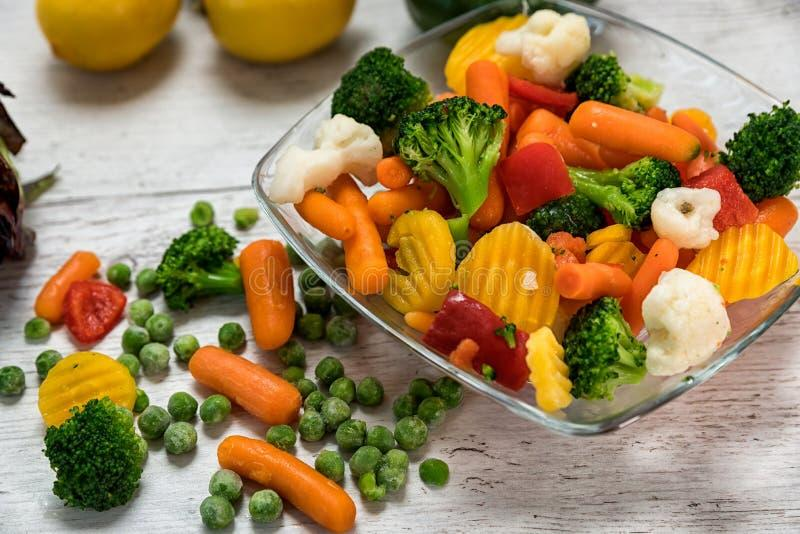broccoli: (393, 96, 508, 219), (528, 155, 684, 238), (43, 399, 150, 514), (565, 297, 651, 402), (719, 106, 800, 205), (570, 52, 666, 114)
carrot: (216, 435, 355, 532), (192, 343, 307, 424), (568, 101, 701, 165), (241, 240, 297, 351), (31, 253, 97, 324), (301, 191, 359, 240), (466, 60, 511, 113), (377, 156, 413, 190)
cauliflower: (638, 270, 740, 370)
peas: (316, 350, 488, 482)
